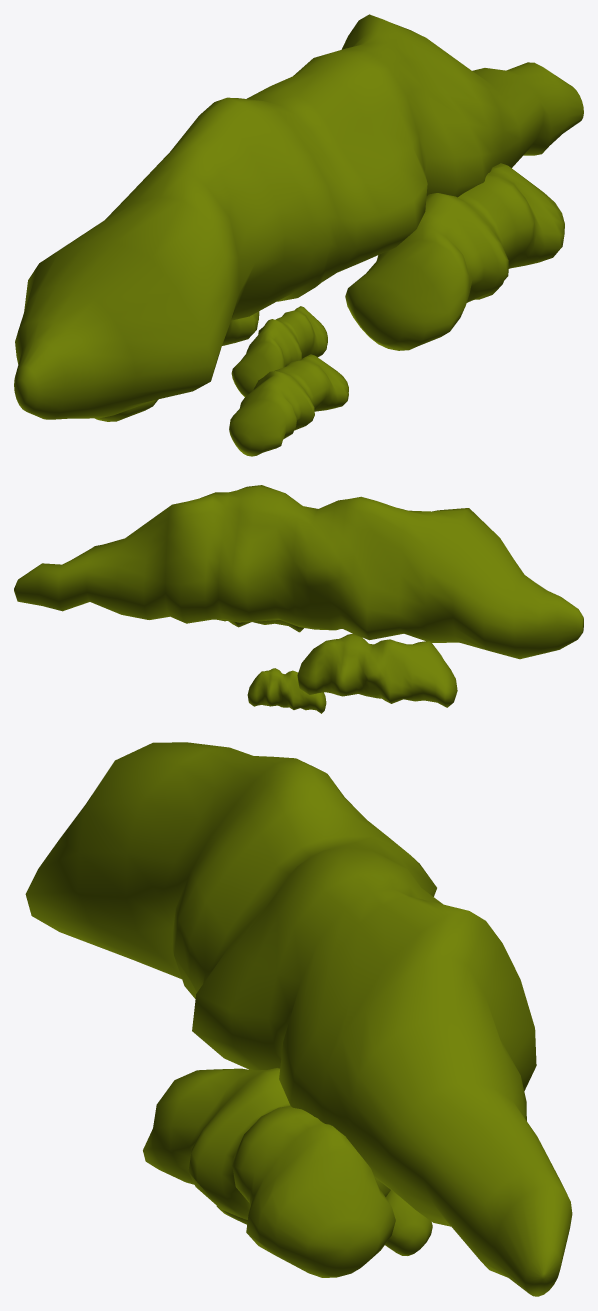
The model's file is cartoonleafs.fbx.
The picture shows the model from 3 angles, top to bottom: view 1: azimuth 30°, elevation 25°; view 2: azimuth 150°, elevation 25°; view 3: azimuth 270°, elevation 25°; orthographic projection. The views are drawn at different scales.
Visible parts, largest first — view 1: pCylinder6, pCylinder7, pCylinder10, pCylinder9, pCylinder8; view 2: pCylinder6, pCylinder8, pCylinder9; view 3: pCylinder6, pCylinder7, pCylinder9.
Boxes of the visible parts, <box> form: pCylinder6: <box>14,14,583,419</box>; pCylinder7: <box>345,163,564,350</box>; pCylinder10: <box>229,354,348,456</box>; pCylinder9: <box>231,306,327,396</box>; pCylinder8: <box>95,311,259,421</box>; pCylinder6: <box>14,485,583,659</box>; pCylinder8: <box>297,633,457,707</box>; pCylinder9: <box>247,668,326,713</box>; pCylinder6: <box>25,742,572,1296</box>; pCylinder7: <box>143,1068,395,1277</box>; pCylinder9: <box>385,1190,432,1255</box>.
Size of the model in its own units: 13.49 by 5.81 by 6.85.
